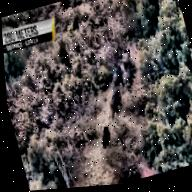boar: (120, 60, 146, 86), (108, 55, 125, 89), (116, 42, 135, 68), (107, 90, 125, 116), (98, 123, 113, 147), (109, 77, 122, 93)
